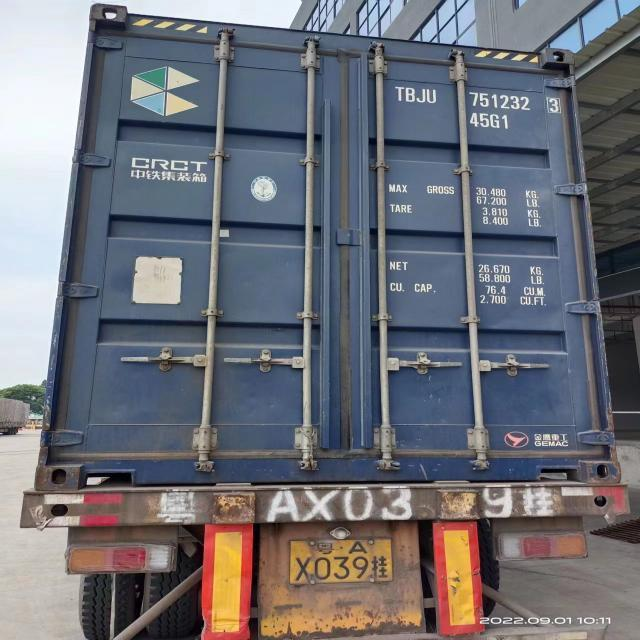ISO: (472, 114, 510, 130)
container_number: (394, 84, 564, 116)
